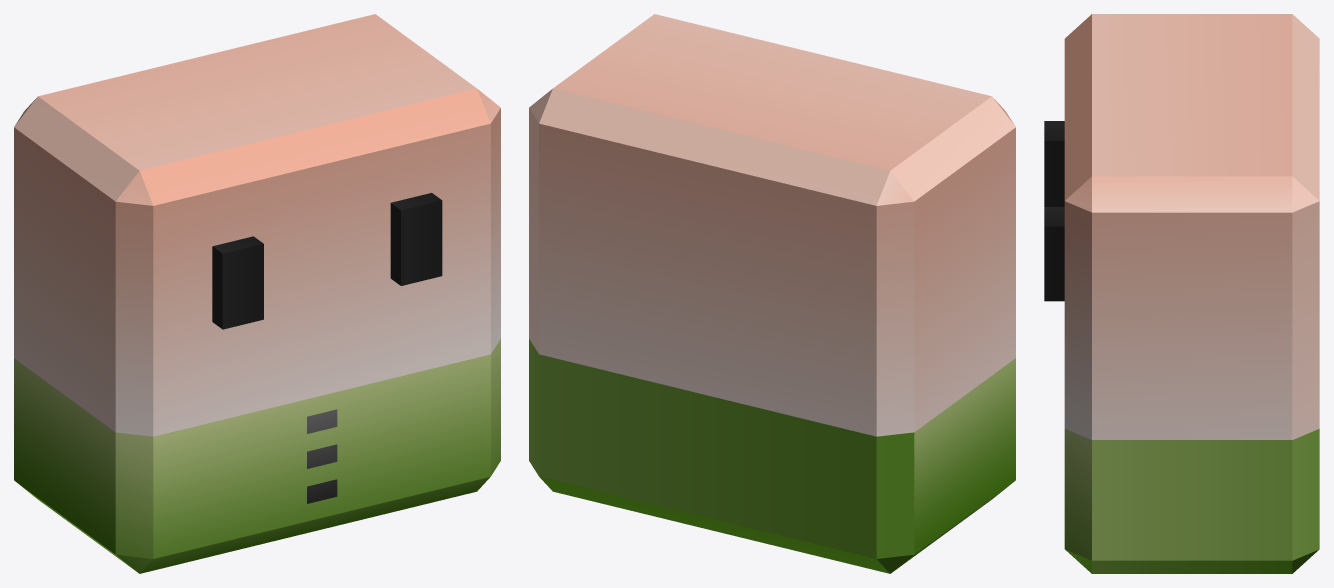
The model's file is NormalCube.glb.
3 renders of one model, left to right at view 1: azimuth 30°, elevation 25°; view 2: azimuth 150°, elevation 25°; view 3: azimuth 270°, elevation 25°, orthographic.
Parts seen in each view (by area): view 1: Cube; view 2: Cube; view 3: Cube.
Boxes of the visible parts, bbox=[...] form: Cube: bbox=[14, 14, 500, 573]; Cube: bbox=[529, 14, 1015, 573]; Cube: bbox=[1044, 14, 1319, 573].
Bounding box in the file's own units: 2 × 2 × 1.26.
Materials: 1 (1 with a texture image).
